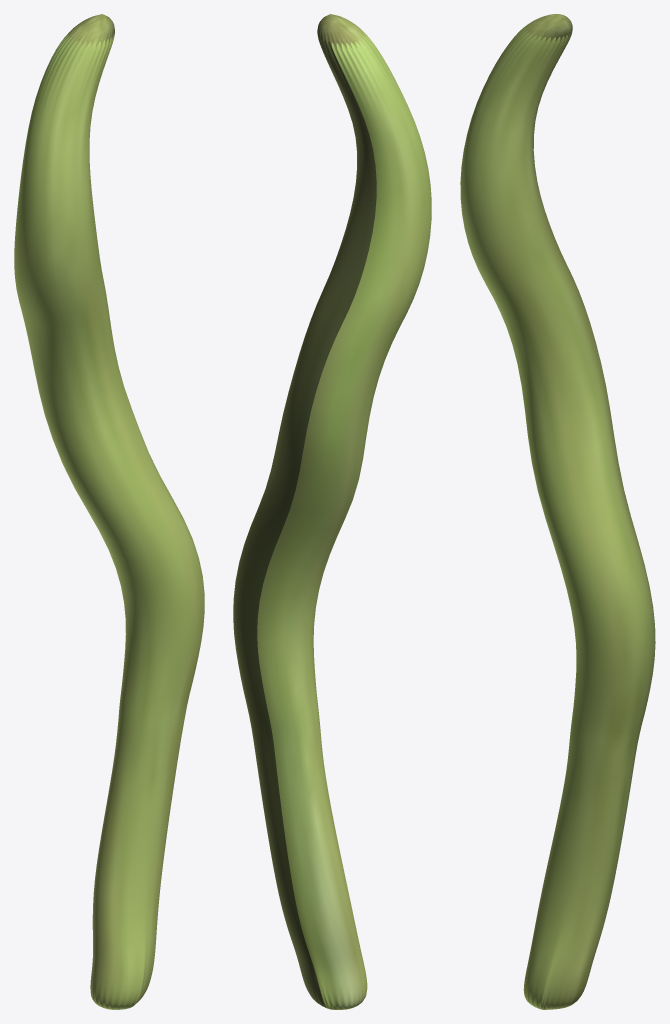
File: stalk_c1.glb
The picture shows the model from 3 angles, left to right: view 1: azimuth 30°, elevation 25°; view 2: azimuth 150°, elevation 25°; view 3: azimuth 330°, elevation 25°; orthographic projection.
Parts seen in each view (by area): view 1: Cylinder.002; view 2: Cylinder.002; view 3: Cylinder.002.
Boxes of the visible parts, x1=… form: Cylinder.002: x1=14, y1=14, x2=204, y2=1009; Cylinder.002: x1=233, y1=14, x2=431, y2=1009; Cylinder.002: x1=460, y1=14, x2=655, y2=1009.
Bounding box in the file's own units: 0.1936 × 1 × 0.1114.
1 material, 1 textured.
